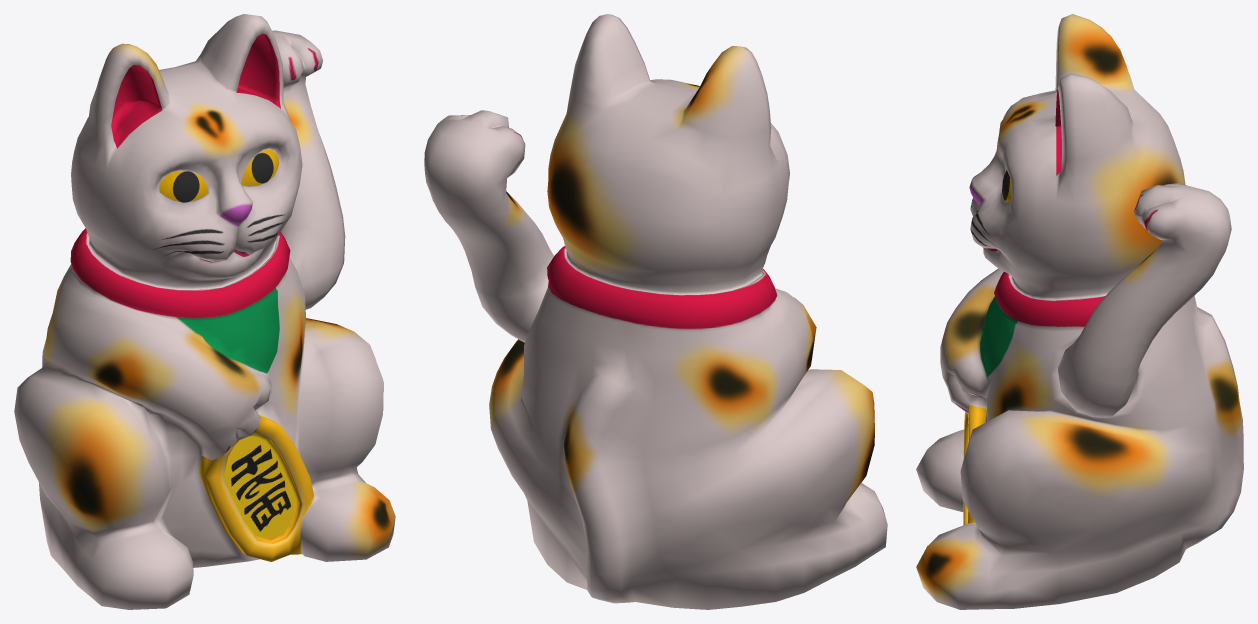
File: Money Cat.fbx
3 renders of one model, left to right at view 1: azimuth 30°, elevation 25°; view 2: azimuth 150°, elevation 25°; view 3: azimuth 270°, elevation 25°, orthographic. The views are drawn at different scales.
Parts seen in each view (by area): view 1: Cube.002, Cube; view 2: Cube.002, Cube; view 3: Cube.002, Cube.
Boxes of the visible parts, x1,y1,x2,y2 form: Cube.002: [14, 14, 395, 609]; Cube: [272, 30, 345, 309]; Cube.002: [489, 14, 887, 609]; Cube: [424, 110, 553, 342]; Cube.002: [916, 14, 1243, 609]; Cube: [1057, 183, 1231, 417].
Size of the model in its own units: 235 by 334 by 201.
